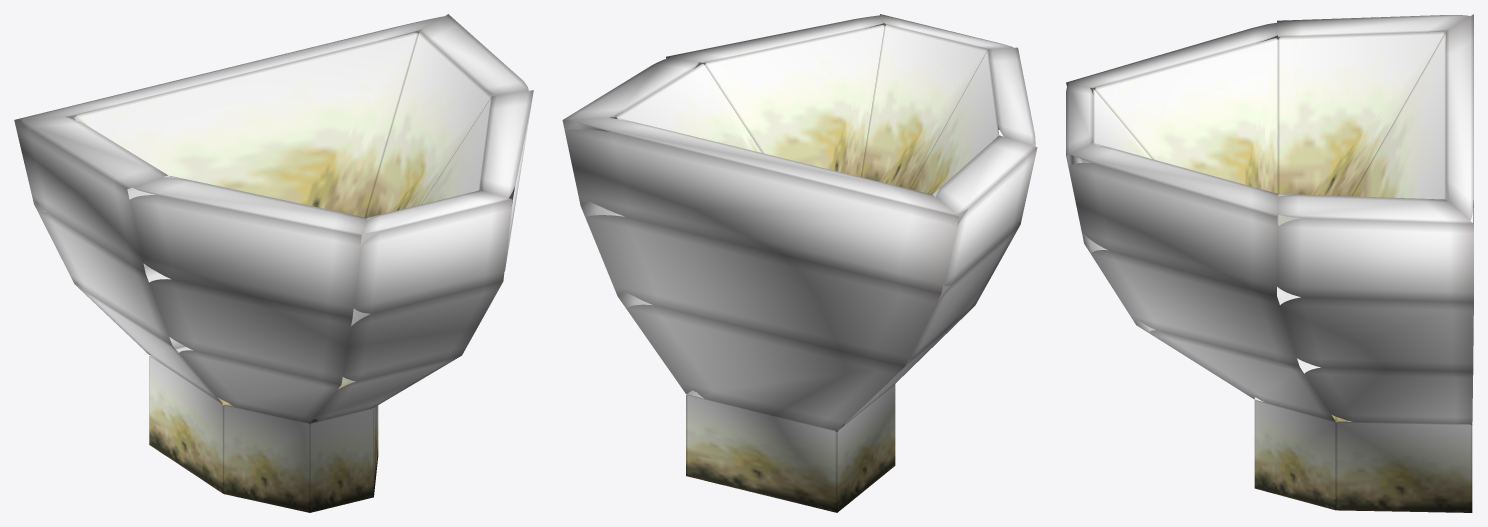
The picture shows the model from 3 angles, left to right: view 1: azimuth 30°, elevation 25°; view 2: azimuth 150°, elevation 25°; view 3: azimuth 270°, elevation 25°; orthographic projection. The views are drawn at different scales.
Parts seen in each view (by area): view 1: T1L8M004_5; view 2: T1L8M004_5; view 3: T1L8M004_5.
Part boxes in pixels (left/top/right/bottom): T1L8M004_5: left=14, top=14, right=533, bottom=512; T1L8M004_5: left=562, top=14, right=1037, bottom=512; T1L8M004_5: left=1066, top=14, right=1473, bottom=512.
Size of the model in its own units: 0.6436 by 0.5107 by 0.5283.
